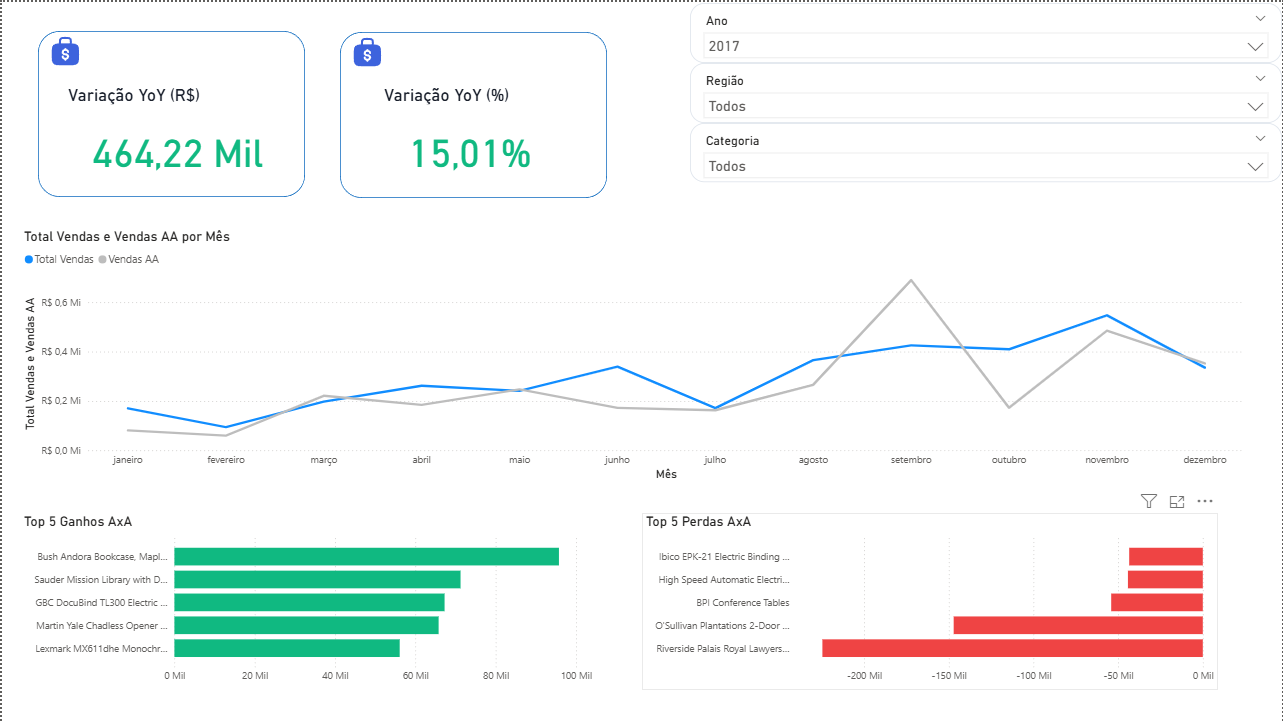

What the dashboard file says about the page in this screenshot:
{"tool":"powerbi","page":{"name":"Ano vs Ano","canvas":[1600,900],"ordinal":1},"visuals":[{"type":"slicer","fields":{"Values":["Sample - Superstore.Order Date.Variation.Hierarquia de datas.Ano"]},"box":[860,1.2,740,75],"z":0},{"type":"shape","box":[45,36.2,333.8,207.5],"z":0,"group":"g2"},{"type":"shape","box":[422.5,37.5,333.8,207.5],"z":0,"group":"g1"},{"type":"slicer","fields":{"Values":["Sample - Superstore.Region"]},"box":[860,76.2,740,75],"z":1000},{"type":"cardVisual","title":"Variação YoY (%)","fields":{"Data":["Sample - Superstore.Variação YoY (%)"]},"box":[471.9,103.1,268.8,147.5],"z":1000,"group":"g1"},{"type":"cardVisual","title":"Variação YoY (R$)","fields":{"Data":["Sample - Superstore.Variação YoY (R$)"]},"box":[77.5,103.4,295,147.5],"z":1000,"group":"g2"},{"type":"image","box":[59.3,36.9,40.8,48.6],"z":2000,"group":"g2"},{"type":"image","box":[436.8,38.2,40.8,48.6],"z":2000,"group":"g1"},{"type":"slicer","fields":{"Values":["Sample - Superstore.Category"]},"box":[860,151.2,740,73.8],"z":2000},{"type":"lineChart","fields":{"Category":["Sample - Superstore.Order Date.Variation.Hierarquia de datas.Mês"],"Y":["Sample - Superstore.Total Vendas","Sample - Superstore.Vendas AA"]},"box":[22.5,282.5,1535,321.2],"z":3000},{"type":"group","id":"g1","title":"Grupo 2","box":[422.5,37.5,333.8,213.1],"z":4000},{"type":"group","id":"g2","title":"Grupo 2","box":[45,36.2,333.8,214.7],"z":5000},{"type":"clusteredBarChart","title":"Top 5 Ganhos AxA","fields":{"Category":["Sample - Superstore.Product Name"],"Y":["Sample - Superstore.Variação YoY (R$)"]},"box":[22.5,638.8,720,221.2],"z":6000},{"type":"clusteredBarChart","title":"Top 5 Perdas AxA","fields":{"Category":["Sample - Superstore.Product Name"],"Y":["Sample - Superstore.Variação YoY (R$)"]},"box":[800,638.8,720,221.2],"z":7000}]}

Visuals, with their boxes in screenshot pixels (x1, y1, x2, y2), scaled from the page's 1600x900 canvas onto the 1283x722 screenshot:
slicer - Sample - Superstore.Order Date.Variation.Hierarquia de datas.Ano: Rect(690, 1, 1282, 61)
shape: Rect(36, 29, 304, 196)
shape: Rect(339, 30, 606, 197)
slicer - Sample - Superstore.Region: Rect(690, 61, 1282, 121)
"Variação YoY (%)" cardVisual: Rect(378, 83, 594, 201)
"Variação YoY (R$)" cardVisual: Rect(62, 83, 299, 201)
image: Rect(48, 30, 80, 69)
image: Rect(350, 31, 383, 70)
slicer - Sample - Superstore.Category: Rect(690, 121, 1282, 180)
lineChart - Sample - Superstore.Order Date.Variation.Hierarquia de datas.Mês x Sample - Superstore.Total Vendas: Rect(18, 227, 1249, 484)
"Grupo 2" group: Rect(339, 30, 606, 201)
"Grupo 2" group: Rect(36, 29, 304, 201)
"Top 5 Ganhos AxA" clusteredBarChart: Rect(18, 512, 595, 690)
"Top 5 Perdas AxA" clusteredBarChart: Rect(642, 512, 1219, 690)
